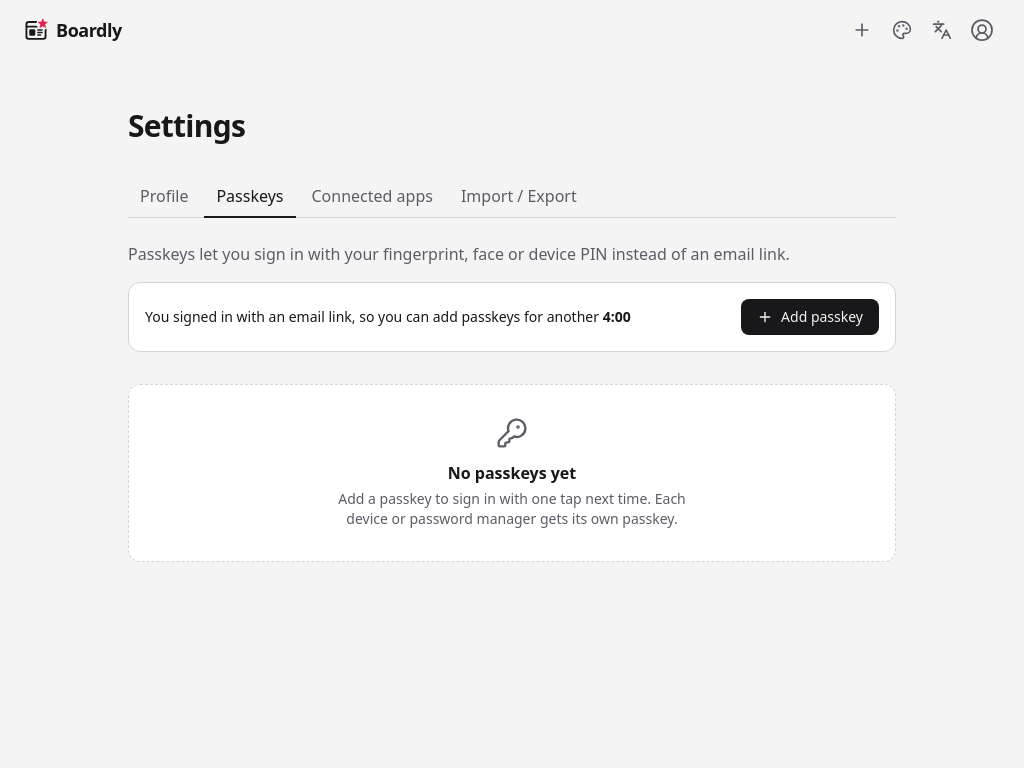
Test: enrollment window › adds a passkey with a label
The width and height of the screenshot is (1024, 768).
Step 1. Click the button "Add passkey" → coordinates (810, 317), box [741, 299, 879, 335]
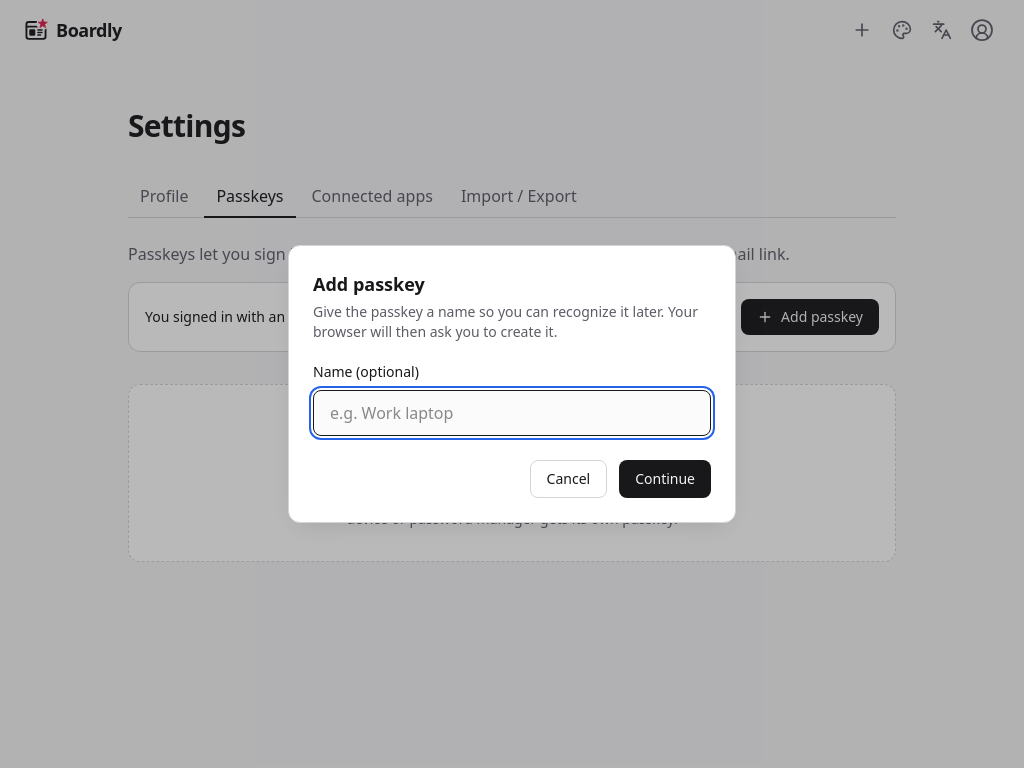
Step 2. Type "Work laptop" into the field labelled "Name (optional)" → coordinates (512, 413), box [313, 390, 711, 436]
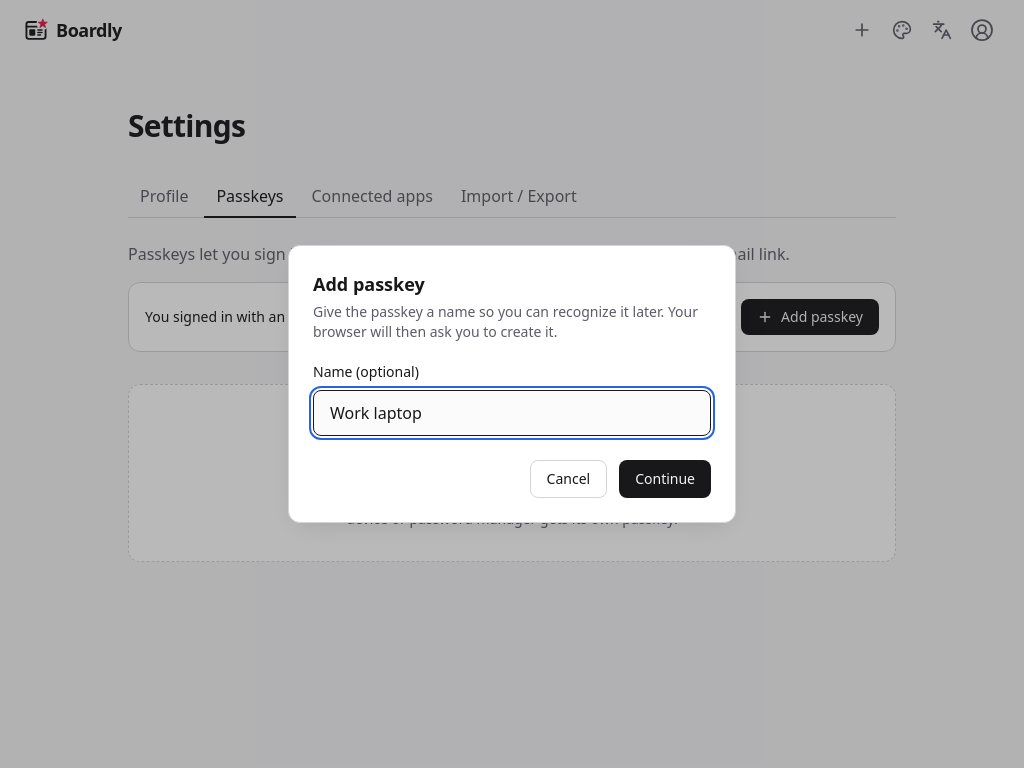
Step 3. Click the button "Continue" → coordinates (665, 479), box [619, 460, 711, 498]
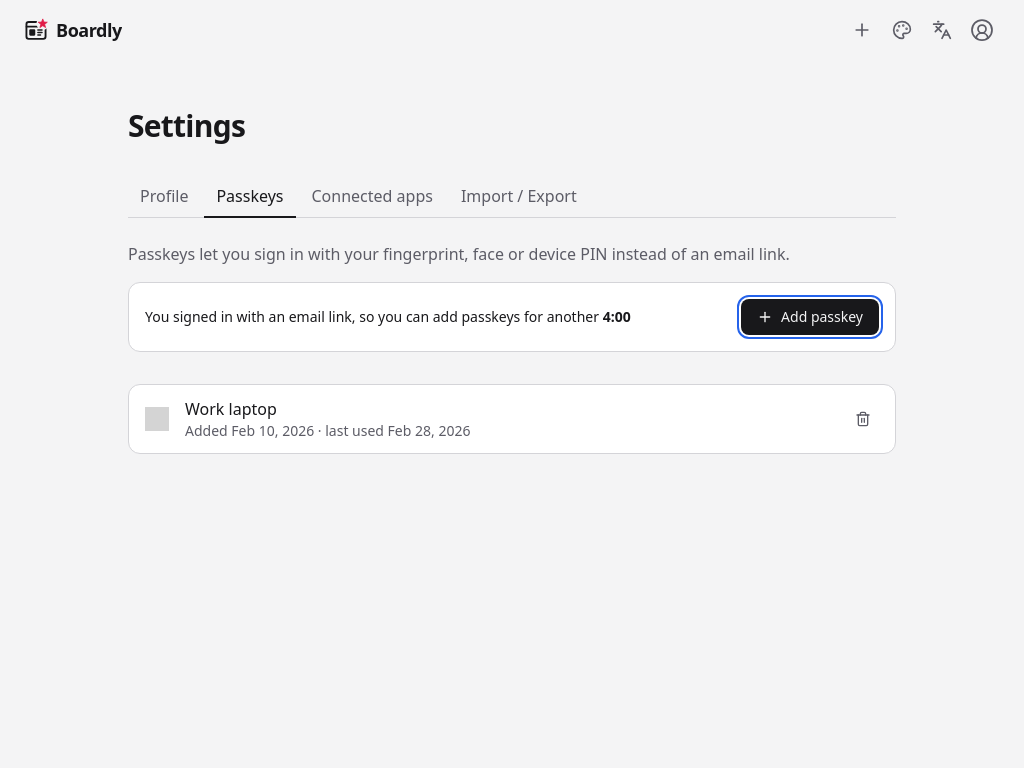
Result: the text "Work laptop" is shown at [185, 398, 277, 420]
Result: the dialog is gone
